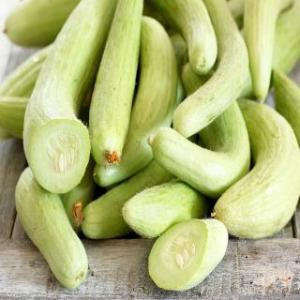cucumber: (22, 0, 112, 188), (91, 15, 173, 189), (212, 103, 300, 239), (148, 106, 254, 196), (14, 165, 88, 291), (88, 0, 144, 160), (146, 216, 226, 290), (242, 1, 292, 102), (122, 176, 204, 234), (176, 0, 218, 68)
